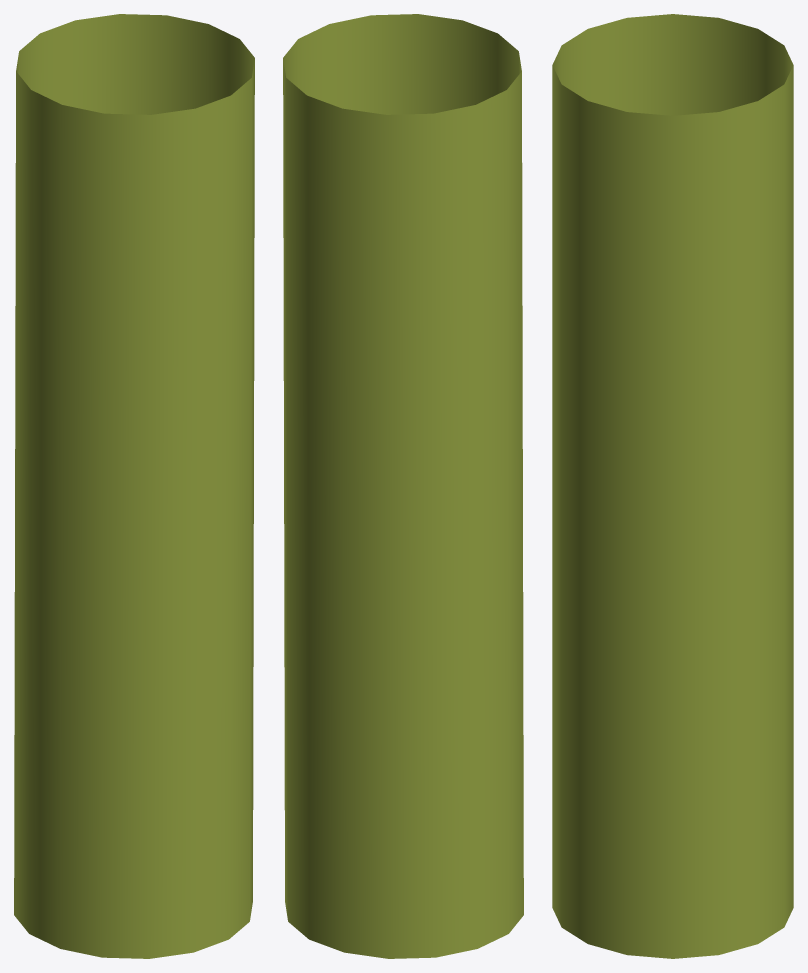
File: Sci_Interior_columCyl_03.fbx
3 views of the same model, side by side, from view 1: azimuth 30°, elevation 25°; view 2: azimuth 150°, elevation 25°; view 3: azimuth 270°, elevation 25° (orthographic).
Visible parts, largest first — view 1: Sci_Interior_columCyl_03; view 2: Sci_Interior_columCyl_03; view 3: Sci_Interior_columCyl_03.
Boxes of the visible parts, <box> form: Sci_Interior_columCyl_03: <box>14,14,254,958</box>; Sci_Interior_columCyl_03: <box>283,14,523,958</box>; Sci_Interior_columCyl_03: <box>552,14,793,958</box>.
Bounding box in the file's own units: 20.57 × 78.74 × 20.38.
